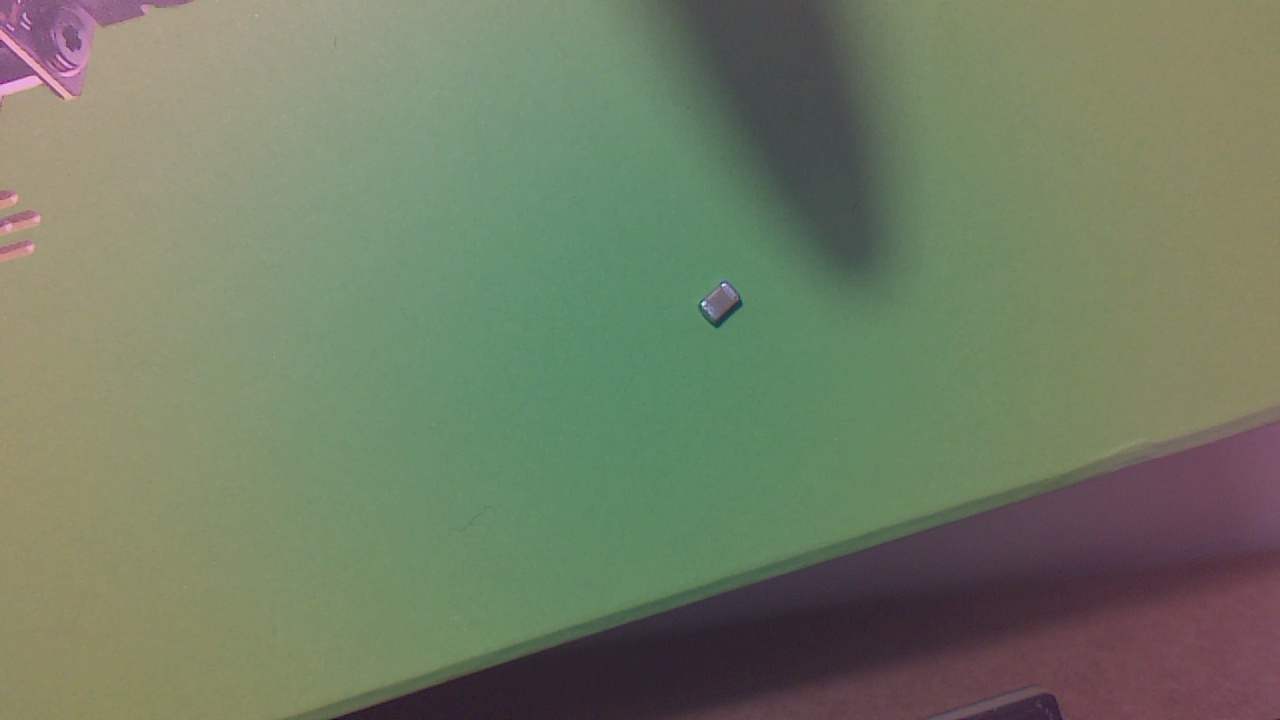Condensator: (702, 282, 747, 334)
